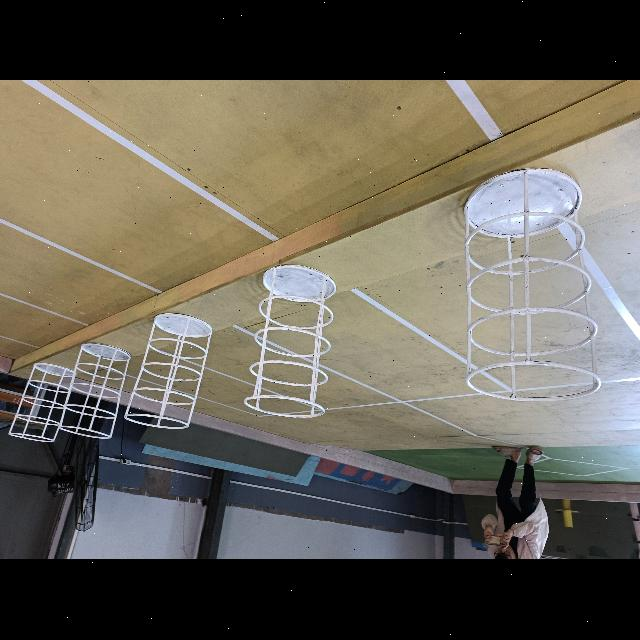S: (464, 168, 601, 403), (244, 262, 339, 421), (125, 313, 212, 429), (61, 344, 130, 439), (7, 363, 76, 444)
